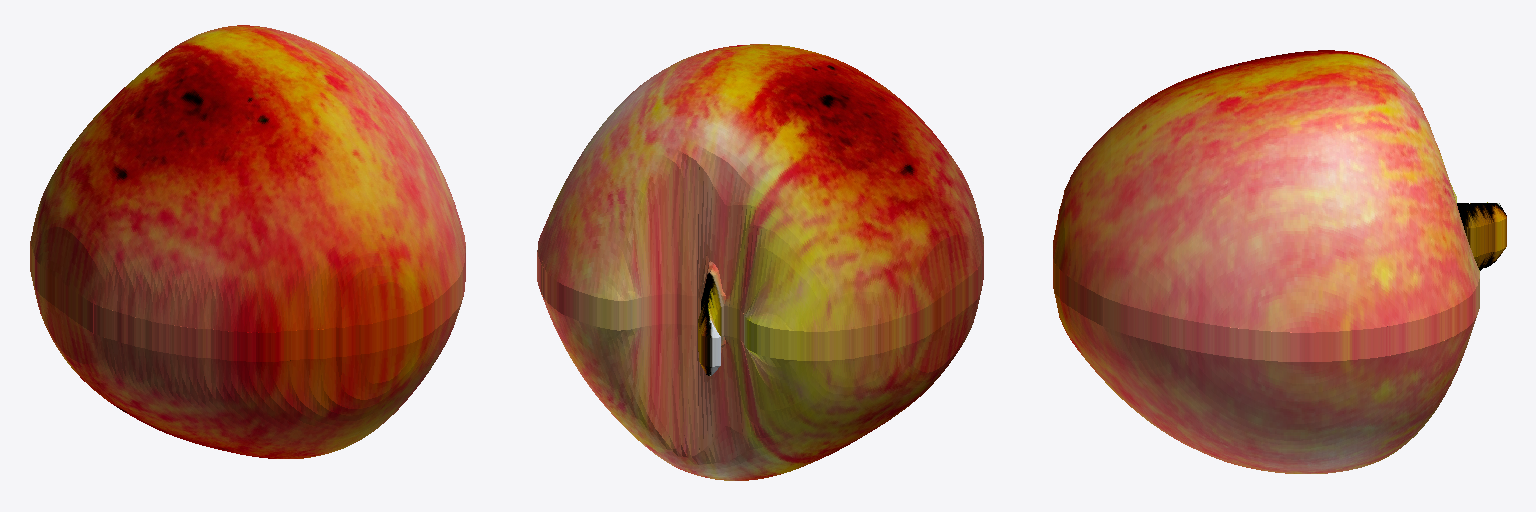
The picture shows the model from 3 angles: view 1: azimuth 30°, elevation 25°; view 2: azimuth 150°, elevation 25°; view 3: azimuth 270°, elevation 25°; orthographic projection.
Visible parts, largest first — view 1: Grid; view 2: Grid; view 3: Grid.
Part boxes in pixels (x1,y1,x2,y2): Grid: (30, 25, 465, 458); Grid: (537, 44, 983, 480); Grid: (1053, 50, 1506, 473).
Bounding box in the file's own units: 1.6 × 1.6 × 1.68.
1 materials, 1 textured.